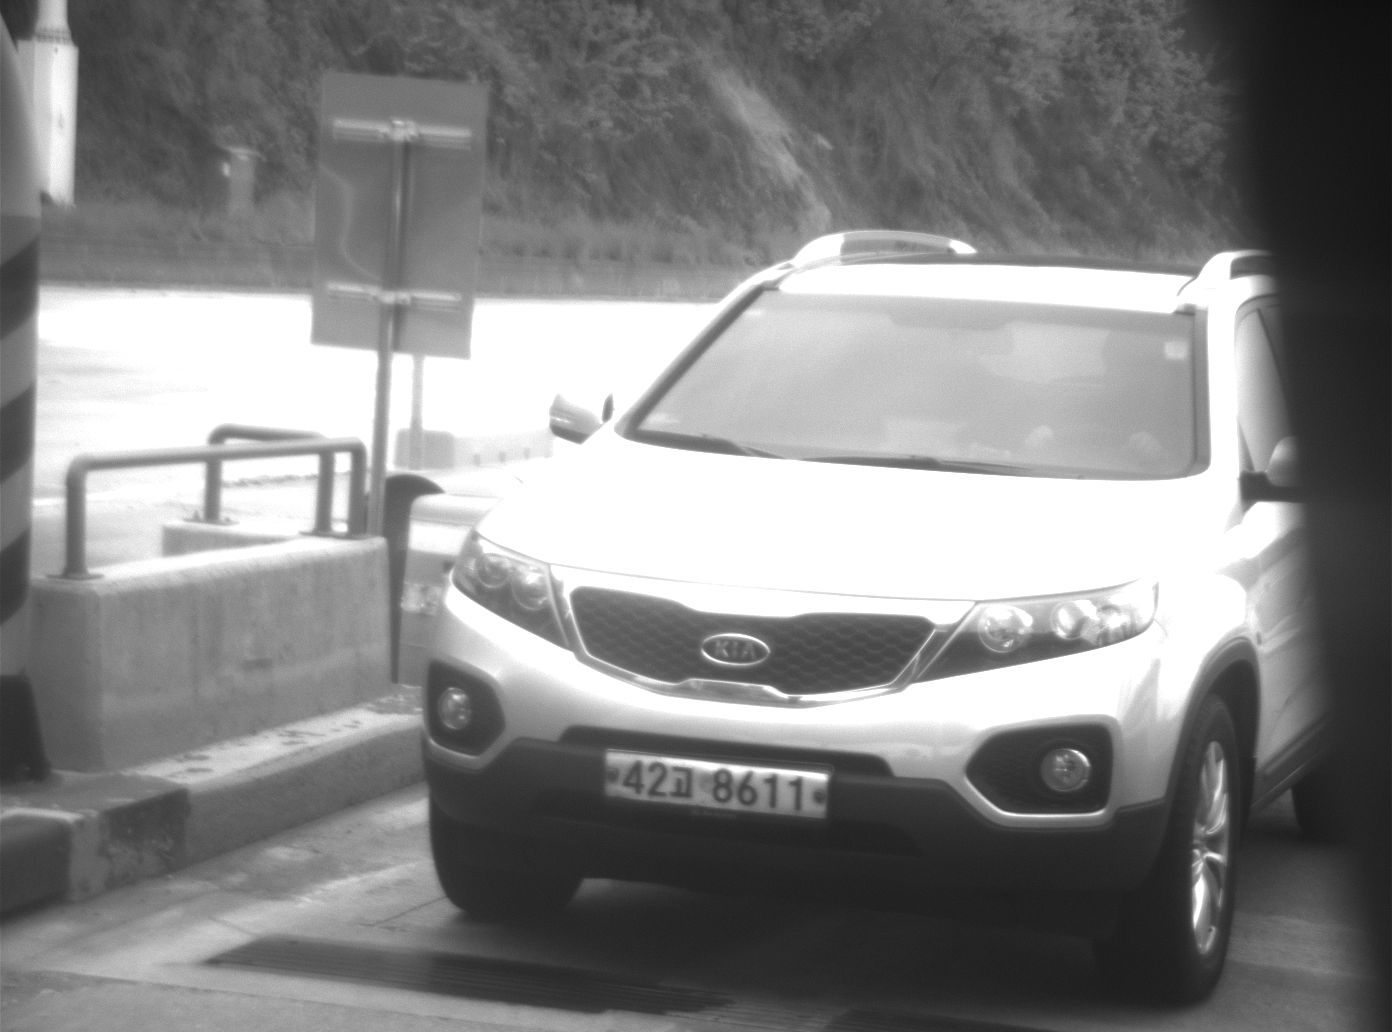car: (414, 226, 1392, 1008)
plate: (599, 743, 834, 828)
